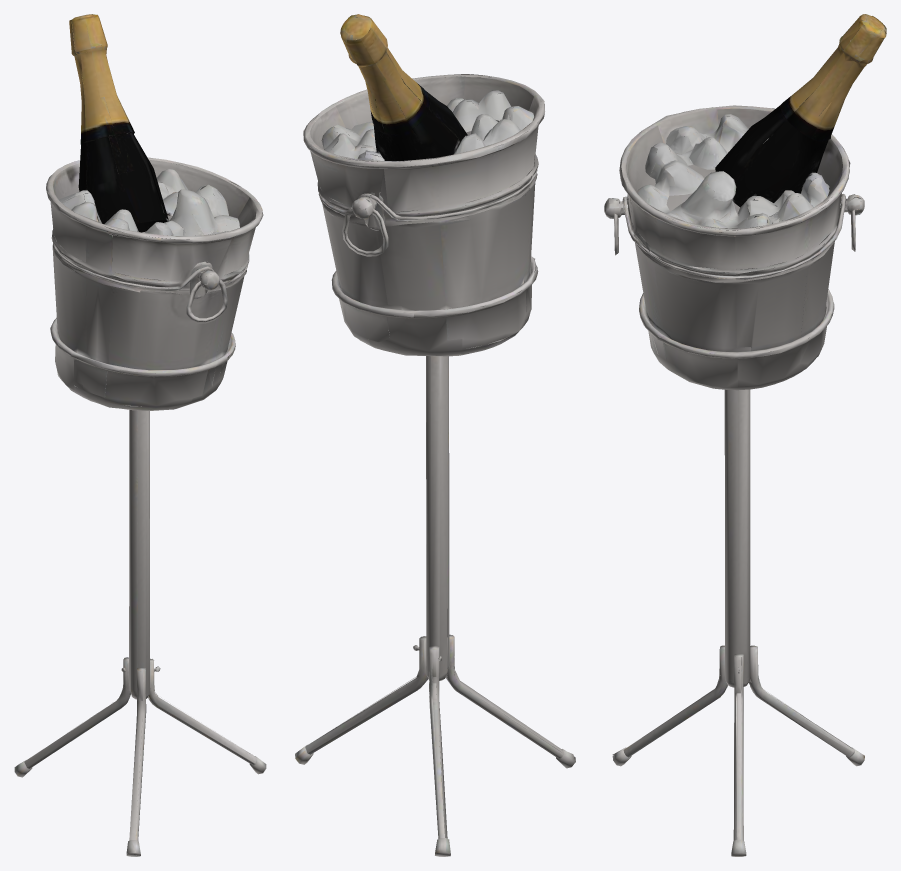
File: ice-bucket.glb
The picture shows the model from 3 angles, left to right: view 1: azimuth 30°, elevation 25°; view 2: azimuth 150°, elevation 25°; view 3: azimuth 270°, elevation 25°; orthographic projection. The views are drawn at different scales.
Visible parts, largest first — view 1: tripo_node_3a05e2ec-b79e-4e98-b865-01f1ffe1928f; view 2: tripo_node_3a05e2ec-b79e-4e98-b865-01f1ffe1928f; view 3: tripo_node_3a05e2ec-b79e-4e98-b865-01f1ffe1928f.
Boxes of the visible parts, x1,y1,x2,y2 form: tripo_node_3a05e2ec-b79e-4e98-b865-01f1ffe1928f: (14,14,266,856); tripo_node_3a05e2ec-b79e-4e98-b865-01f1ffe1928f: (295,14,575,856); tripo_node_3a05e2ec-b79e-4e98-b865-01f1ffe1928f: (604,14,886,856).
Size of the model in its own units: 0.2628 by 0.8999 by 0.2943.
1 material, 1 textured.
